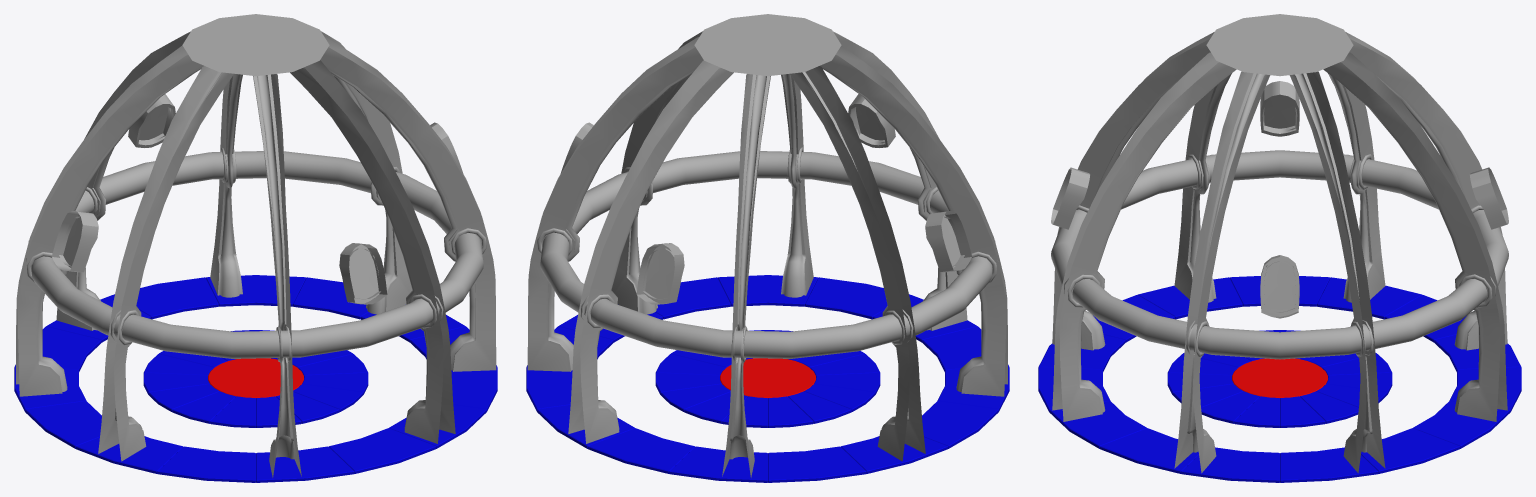
File: room_testGeo.fbx
3 renders of one model, left to right at view 1: azimuth 30°, elevation 25°; view 2: azimuth 150°, elevation 25°; view 3: azimuth 270°, elevation 25°, orthographic.
Visible parts, largest first — view 1: Columns, outerCircle, Pipe, innerCircle, Celing, Windows, center; view 2: Columns, outerCircle, Pipe, innerCircle, Celing, Windows, center; view 3: Columns, outerCircle, Pipe, innerCircle, Windows, Celing, center.
Part boxes in pixels (x1,y1,x2,y2): Columns: (16, 31, 496, 477); outerCircle: (14, 275, 497, 482); Pipe: (28, 151, 483, 358); innerCircle: (143, 330, 368, 427); Celing: (182, 14, 329, 76); Windows: (52, 94, 463, 304); center: (208, 358, 303, 397); Columns: (527, 31, 1007, 477); outerCircle: (526, 275, 1009, 482); Pipe: (540, 151, 995, 358); innerCircle: (655, 330, 880, 427); Celing: (694, 14, 841, 76); Windows: (560, 94, 971, 304); center: (720, 358, 815, 397); Columns: (1052, 32, 1507, 473); outerCircle: (1038, 276, 1521, 482); Pipe: (1051, 150, 1508, 359); innerCircle: (1167, 330, 1392, 427); Windows: (1051, 81, 1508, 318); Celing: (1206, 14, 1353, 76); center: (1232, 358, 1327, 397).
Size of the model in its own units: 10.6 by 8.07 by 10.54.
